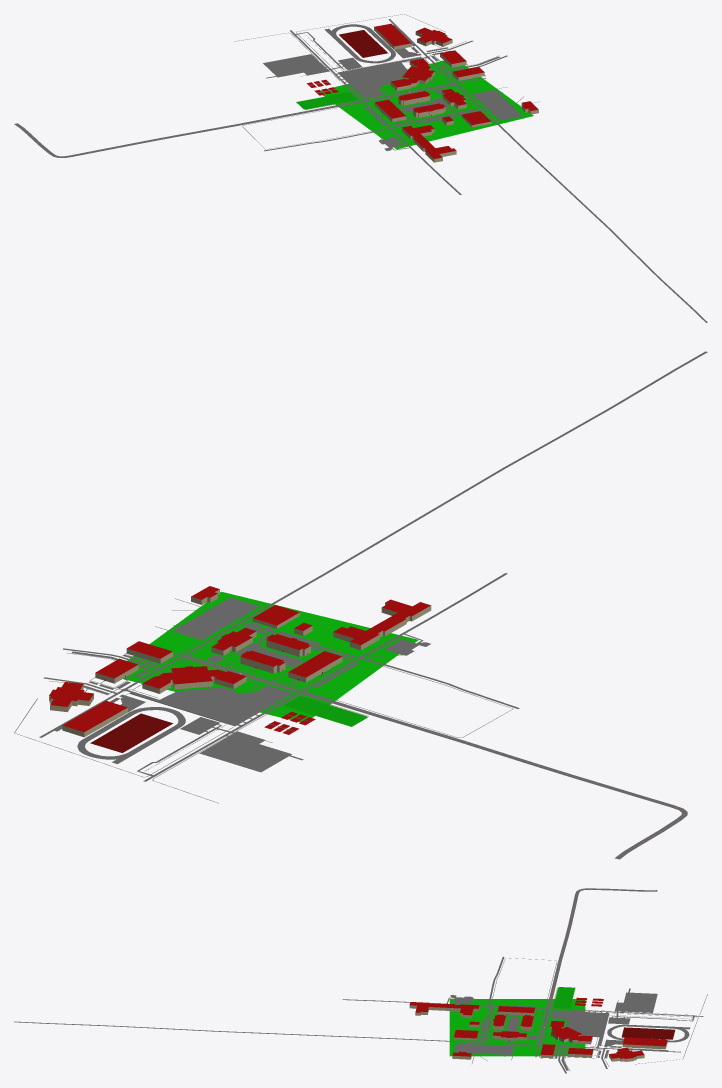
File: Map01.fbx
The picture shows the model from 3 angles, top to bottom: view 1: azimuth 30°, elevation 25°; view 2: azimuth 150°, elevation 25°; view 3: azimuth 270°, elevation 25°; orthographic projection. The views are drawn at different scales.
Parts seen in each view (by area): view 1: SurfaceArea612, SurfaceParking583, Road University Drive, SurfaceParking611, Road North Peachtree Avenue, Building Laboratory Sciences Building, Building Volpe Library and Media Center, SurfaceArea602, SurfaceParking582, RoadArea578, Building Tucker Stadium (East), SurfaceArea610 (+1 smaller); view 2: SurfaceArea612, SurfaceParking583, Road University Drive, SurfaceParking611, Building Laboratory Sciences Building, Road North Peachtree Avenue, Building Volpe Library and Media Center, SurfaceArea602, SurfaceParking582, Building Tucker Stadium (East), RoadArea578, SurfaceArea610 (+3 smaller); view 3: SurfaceArea612, SurfaceParking583, Road North Peachtree Avenue, Road University Drive, SurfaceParking611, Building Laboratory Sciences Building, Building Volpe Library and Media Center, SurfaceArea602, SurfaceParking582, Building Tucker Stadium (East), SurfaceArea610, RoadArea578 (+3 smaller).
Part boxes in pixels (left/top/right/bottom): SurfaceArea612: left=321, top=61, right=533, bottom=149; SurfaceParking583: left=337, top=57, right=421, bottom=98; Road University Drive: left=14, top=78, right=485, bottom=157; SurfaceParking611: left=263, top=54, right=329, bottom=77; Road North Peachtree Avenue: left=388, top=19, right=707, bottom=322; Building Laboratory Sciences Building: left=402, top=125, right=456, bottom=162; Building Volpe Library and Media Center: left=390, top=58, right=434, bottom=90; SurfaceArea602: left=339, top=30, right=388, bottom=57; SurfaceParking582: left=472, top=90, right=521, bottom=120; RoadArea578: left=324, top=24, right=395, bottom=63; Building Tucker Stadium (East): left=374, top=23, right=411, bottom=49; SurfaceArea610: left=296, top=92, right=357, bottom=109; SurfaceArea612: left=123, top=591, right=418, bottom=722; SurfaceParking583: left=129, top=685, right=290, bottom=726; Road University Drive: left=173, top=652, right=687, bottom=859; SurfaceParking611: left=199, top=731, right=291, bottom=772; Building Laboratory Sciences Building: left=333, top=599, right=431, bottom=650; Road North Peachtree Avenue: left=39, top=351, right=707, bottom=737; Building Volpe Library and Media Center: left=142, top=666, right=246, bottom=693; SurfaceArea602: left=90, top=713, right=172, bottom=752; SurfaceParking582: left=173, top=597, right=258, bottom=639; Building Tucker Stadium (East): left=62, top=700, right=127, bottom=737; RoadArea578: left=77, top=707, right=185, bottom=763; SurfaceArea610: left=283, top=696, right=367, bottom=726; SurfaceArea612: left=449, top=999, right=585, bottom=1056; SurfaceParking583: left=550, top=1010, right=609, bottom=1045; Road North Peachtree Avenue: left=14, top=1021, right=680, bottom=1052; Road University Drive: left=535, top=888, right=657, bottom=1057; SurfaceParking611: left=615, top=992, right=657, bottom=1012; Building Laboratory Sciences Building: left=409, top=1002, right=479, bottom=1018; Building Volpe Library and Media Center: left=550, top=1021, right=592, bottom=1044; SurfaceArea602: left=621, top=1027, right=675, bottom=1039; SurfaceParking582: left=454, top=1043, right=513, bottom=1054; Building Tucker Stadium (East): left=622, top=1037, right=667, bottom=1049; SurfaceArea610: left=553, top=987, right=575, bottom=1008; RoadArea578: left=607, top=1024, right=690, bottom=1042.
Size of the model in its own units: 97042 by 1100 by 153659.
